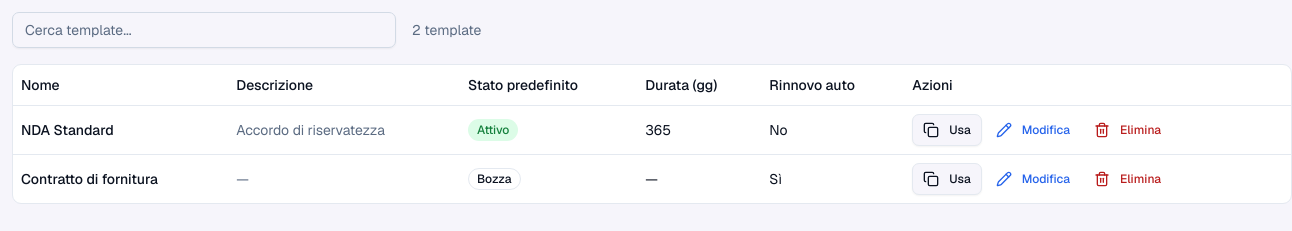
Scenario: ContractTemplateTable › shows empty-state when no results match search
The width and height of the screenshot is (1292, 231).
Type "zzz" into the field labelled "Cerca template..." at (204, 30), box x1=12 y1=12 x2=396 y2=48
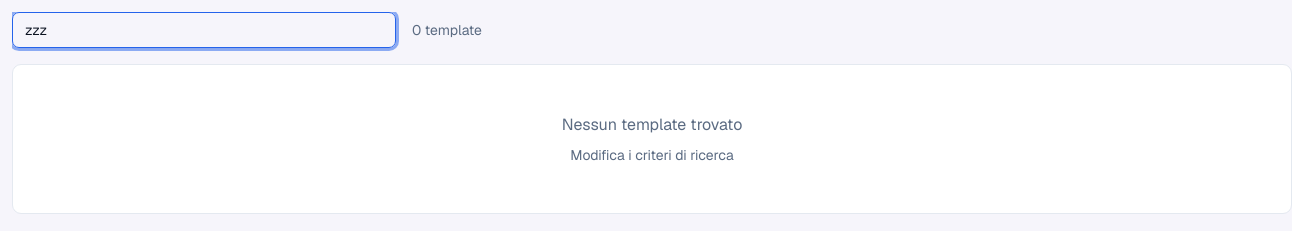
Result: the text "Nessun template trovato" is shown at x1=562 y1=114 x2=742 y2=135
Result: the text "Modifica i criteri di ricerca" is shown at x1=570 y1=146 x2=734 y2=164
